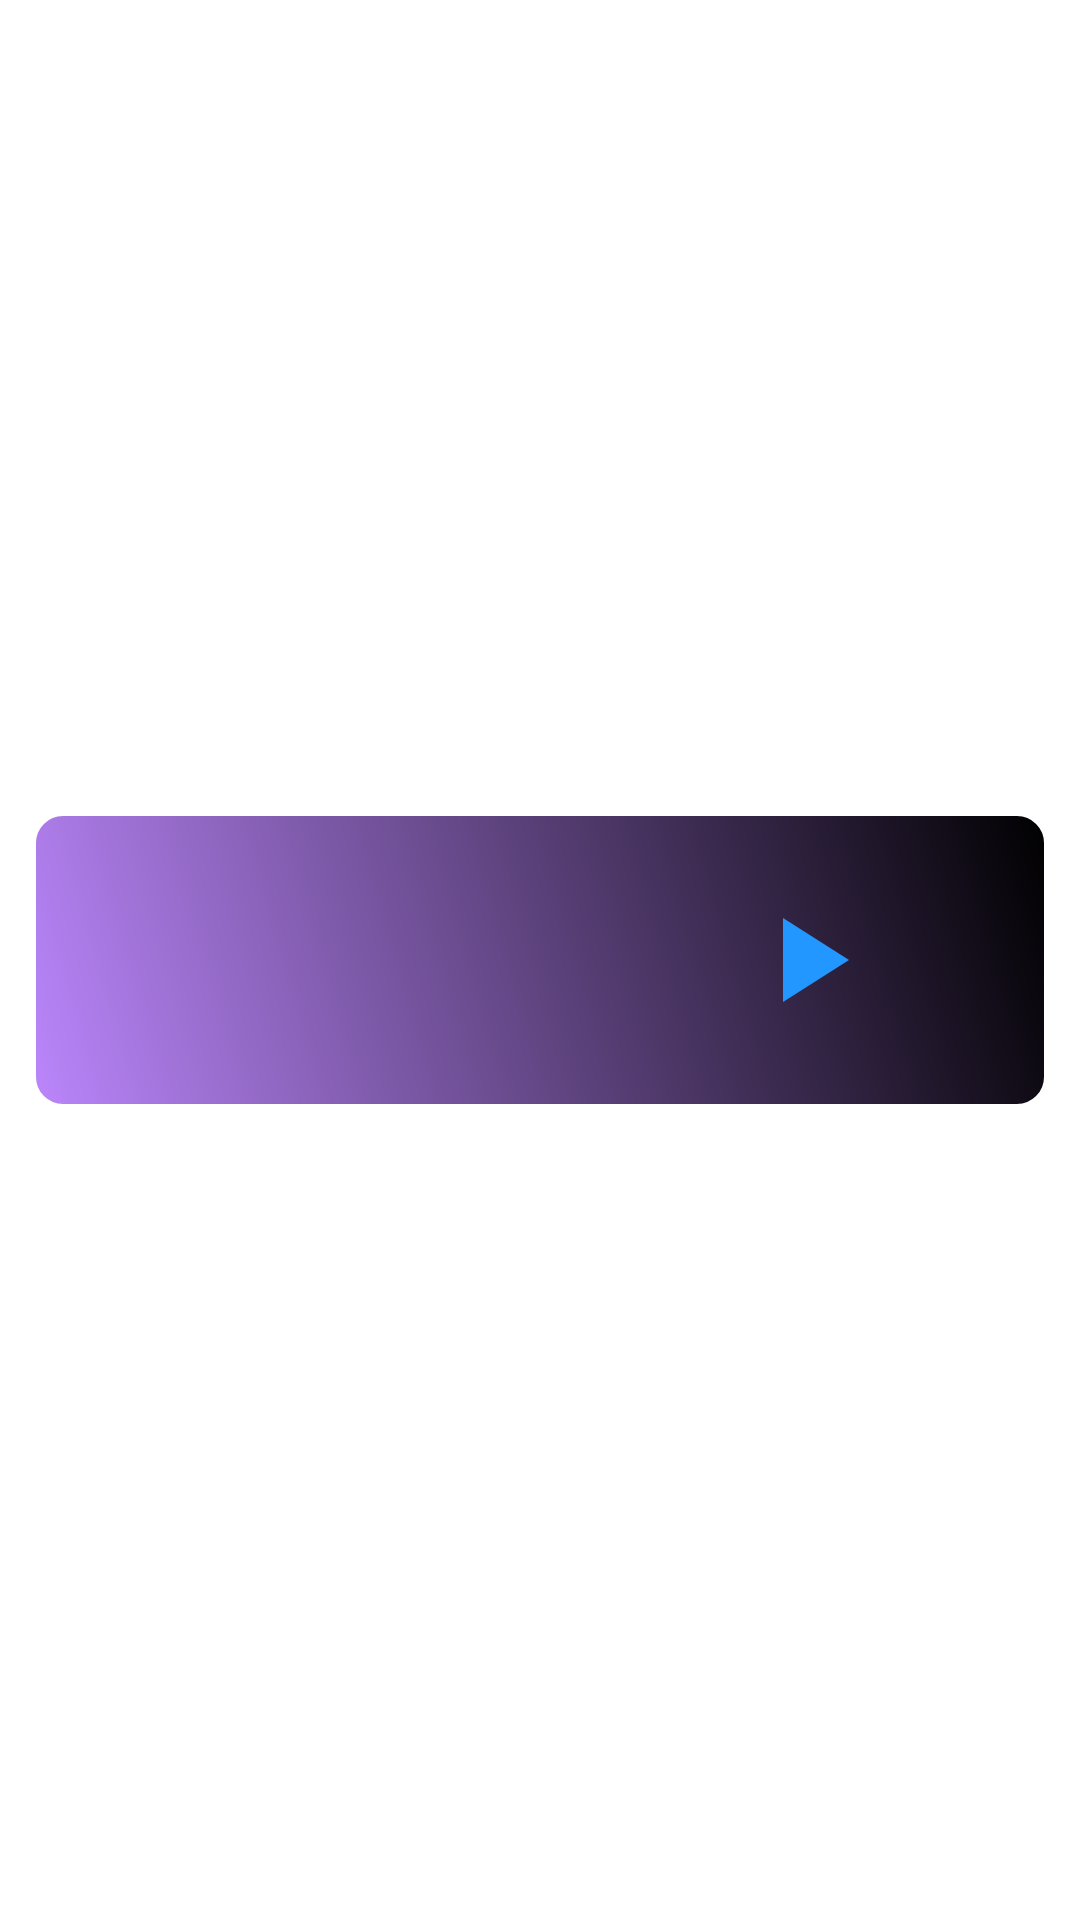

Point at icon controls on the screen. Image size 1080x1920, points as (x=x, y=y).
play track: (x=807, y=960)
